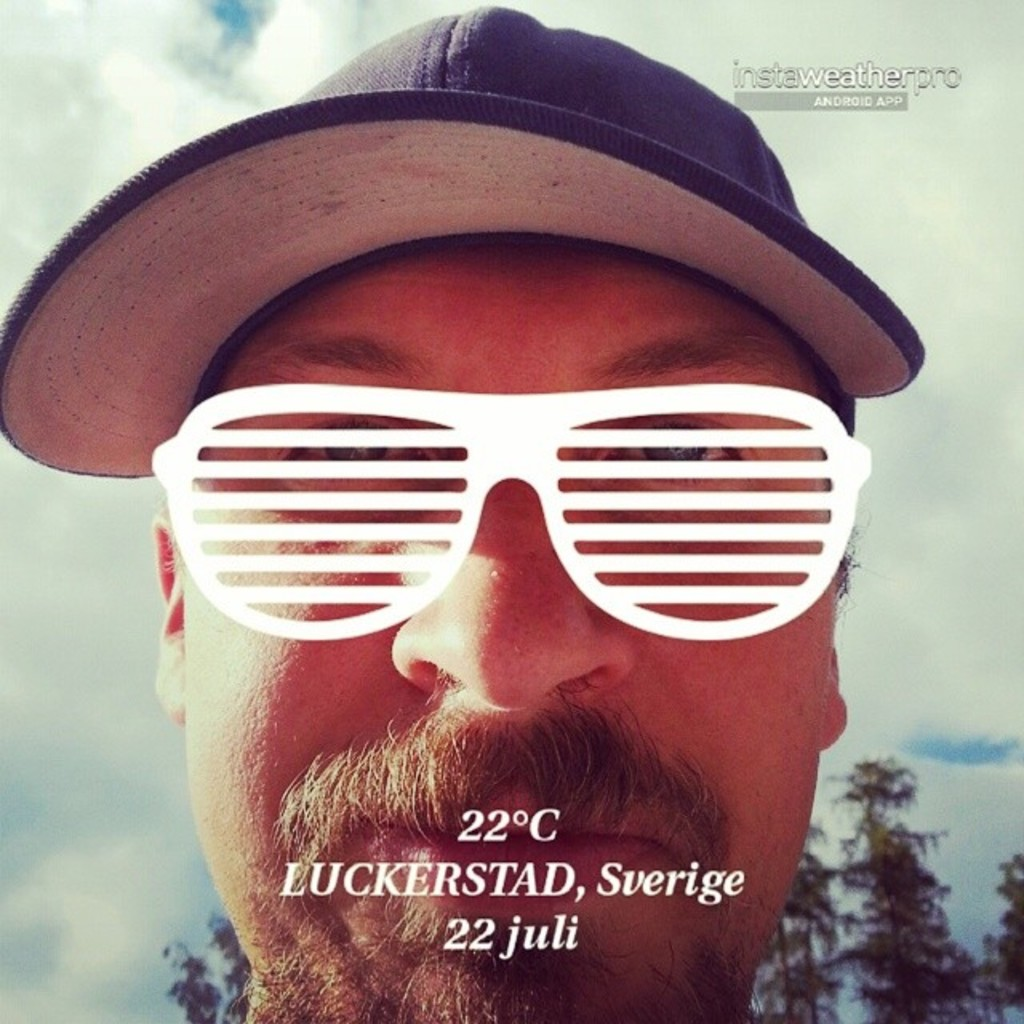Human-face: (176, 237, 850, 1022)
